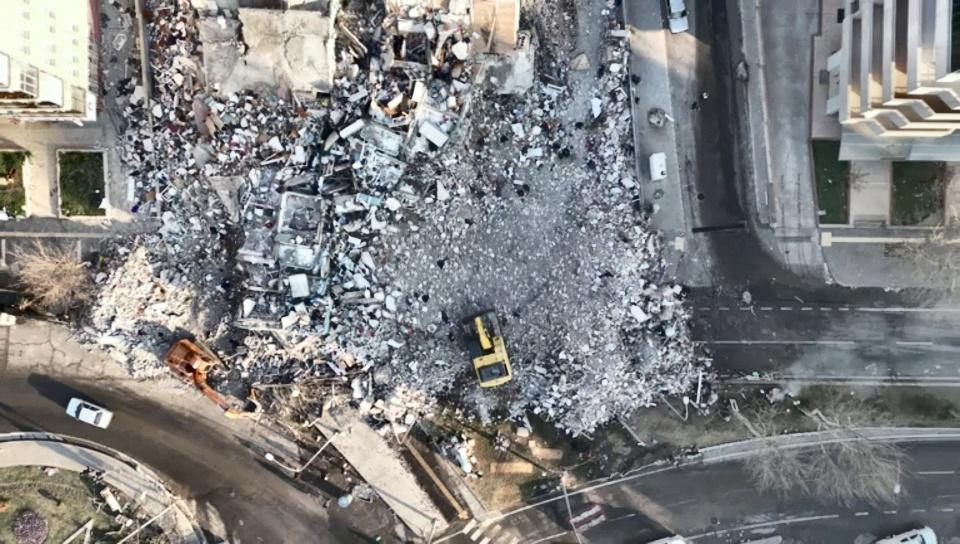kapali: (255, 289, 768, 375)
